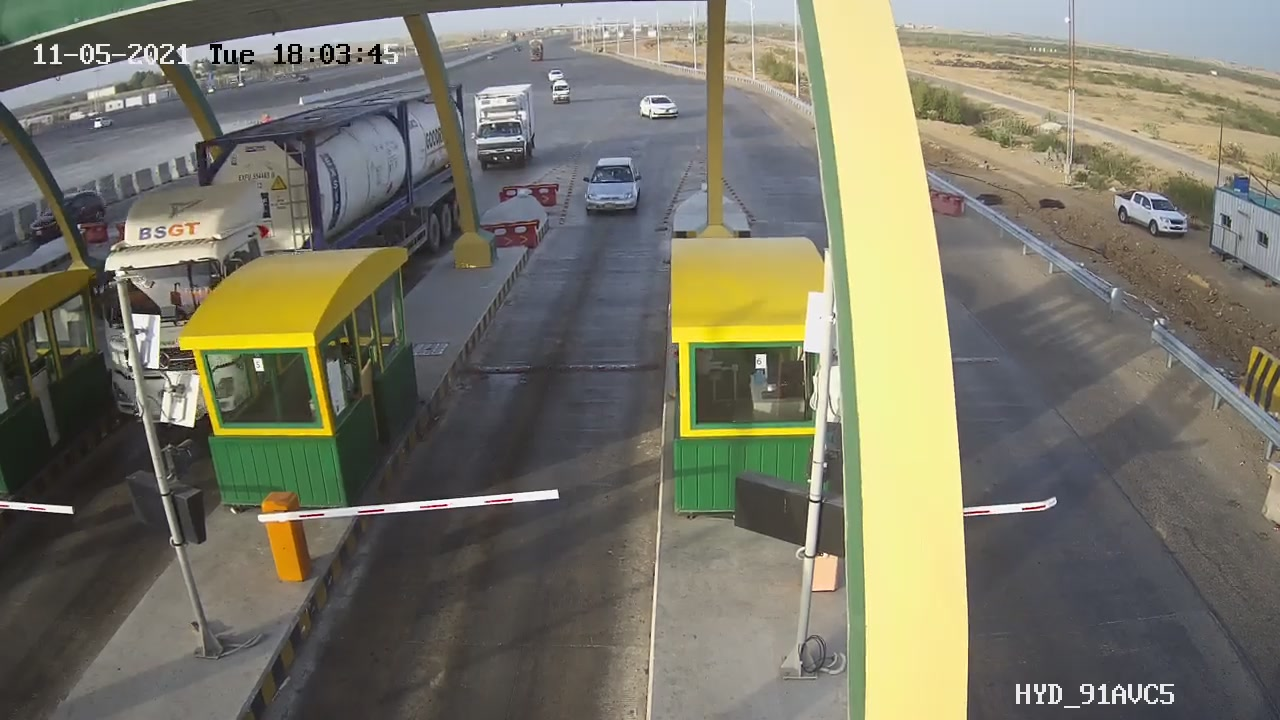F1: (568, 143, 664, 230)
